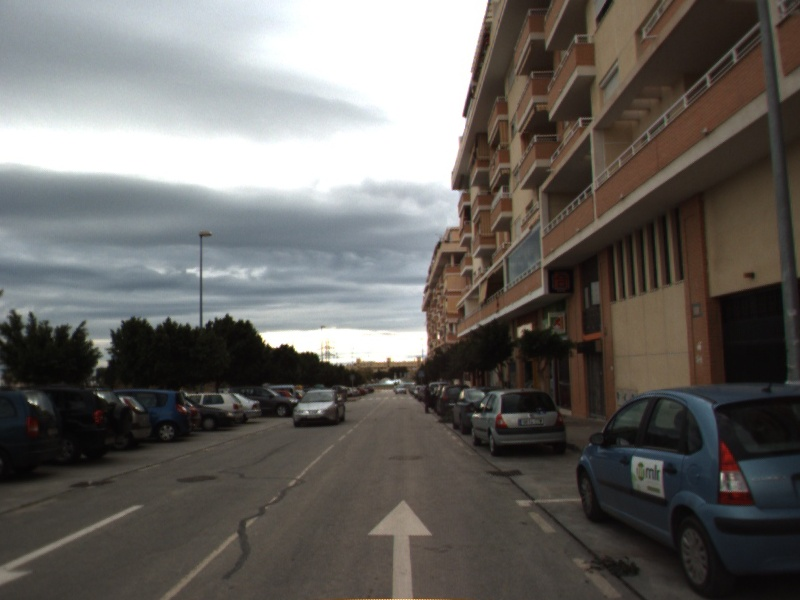STRAIGHT: (365, 497, 435, 600)
